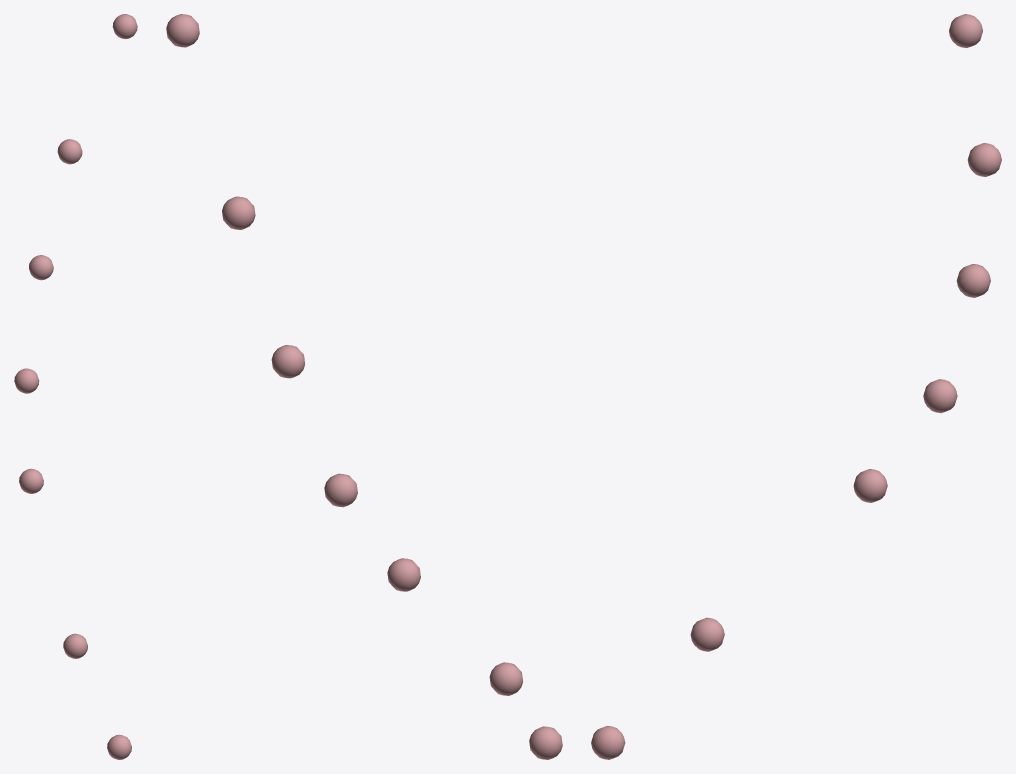
3 views of the same model, side by side, from view 1: azimuth 30°, elevation 25°; view 2: azimuth 150°, elevation 25°; view 3: azimuth 270°, elevation 25° (orthographic). The views are drawn at different scales.
Visible parts, largest first — view 1: ZA_f125ee85aecbdba9; view 2: ZA_f125ee85aecbdba9; view 3: ZA_f125ee85aecbdba9.
Boxes of the visible parts, x1,y1,x2,y2 form: ZA_f125ee85aecbdba9: (14, 14, 137, 759); ZA_f125ee85aecbdba9: (166, 14, 562, 759); ZA_f125ee85aecbdba9: (591, 14, 1001, 759).
Bounding box in the file's own units: 0.0197 × 0.0697 × 0.0311.
